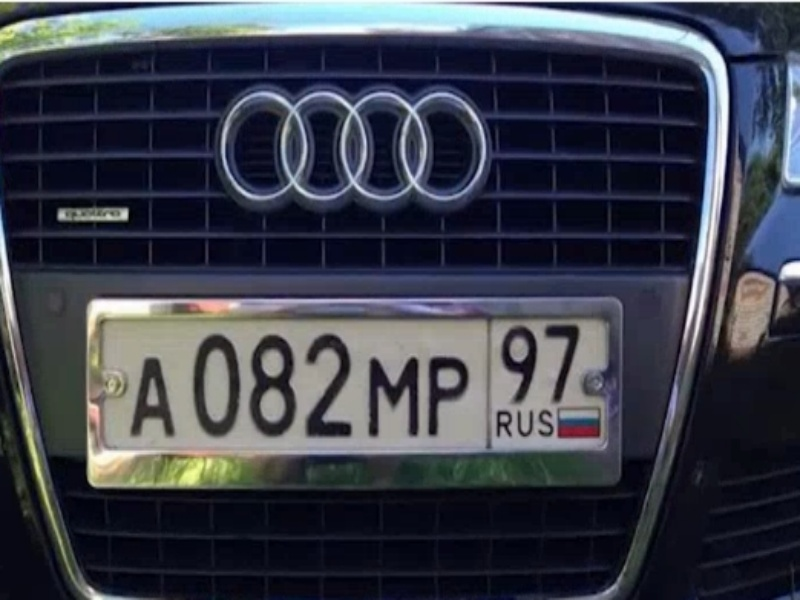plate: (98, 317, 609, 451)
